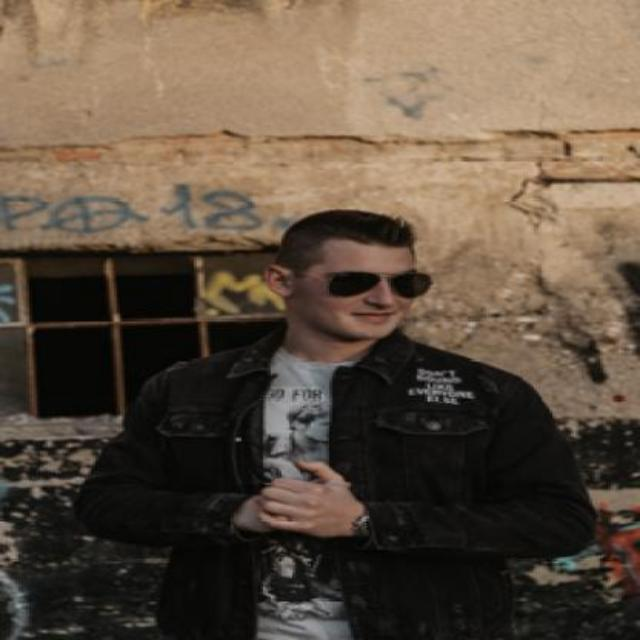sunglasses: (284, 266, 430, 298)
